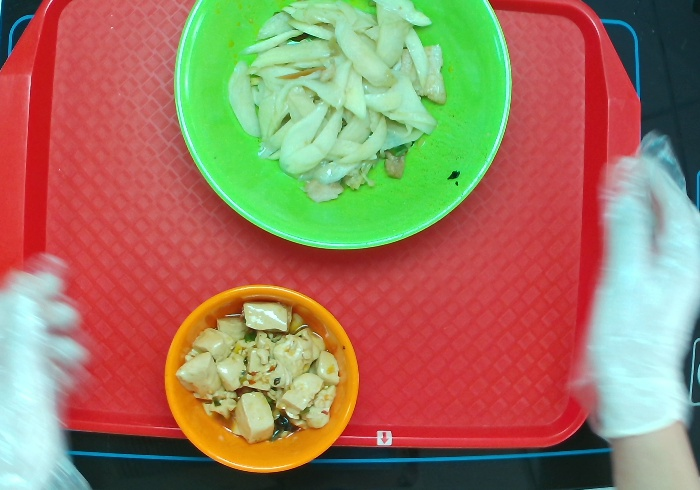YKMZ-Ju_Se_Yuan_Wan: (161, 281, 363, 476)
YKMZ-Lv_Se_Tang_Wan: (175, 1, 511, 255)
